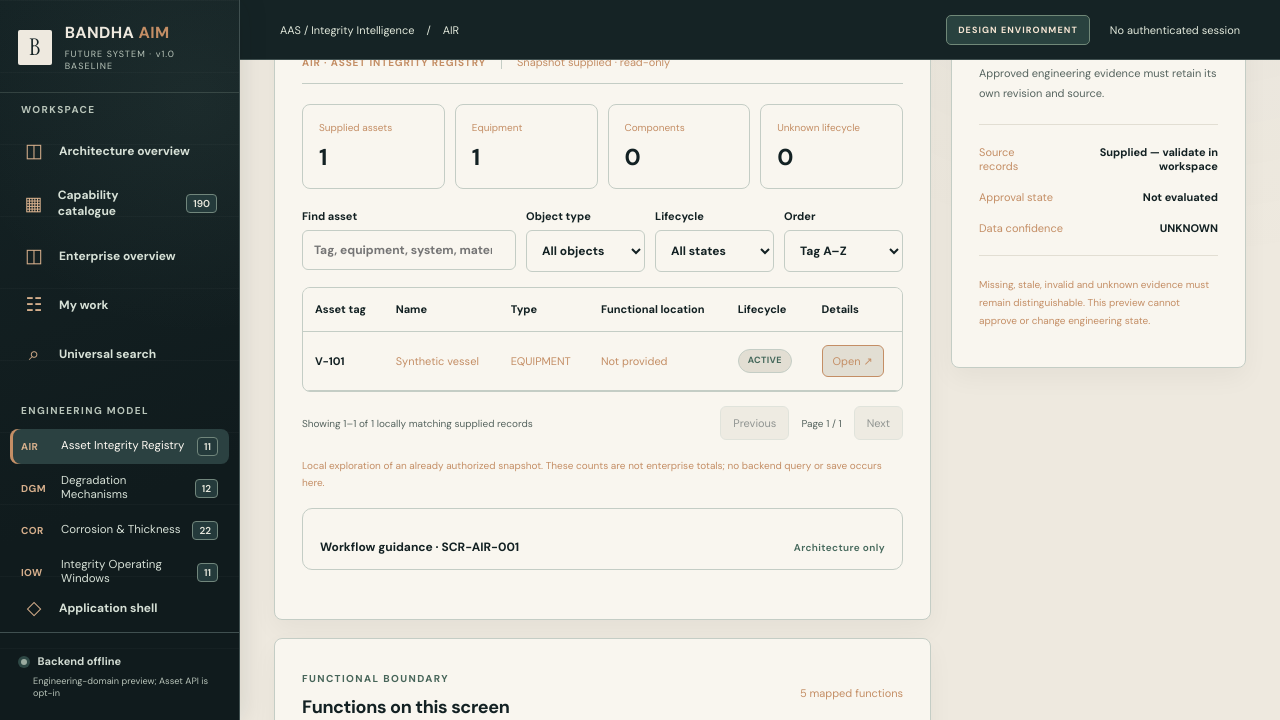
Scenario: Phase 46.5: owning-domain evidence journey › does not conflate candidate with governing INS decision
(page scrolled)
Click the button with aria-label "Open V-101 workspace" at {"x": 853, "y": 361}, box [822,345,884,377]
(page scrolled)
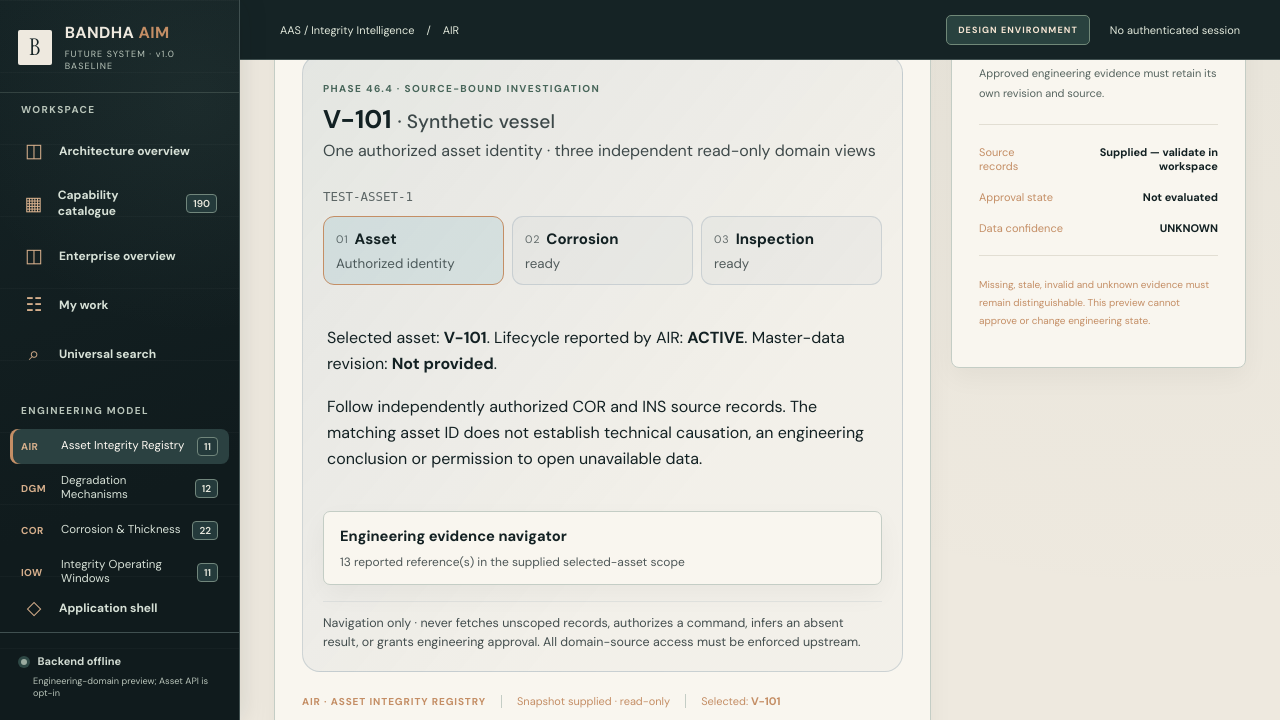
Click the text "Engineering evidence navigator" at {"x": 453, "y": 536}, box [340,526,567,546]
(page scrolled)
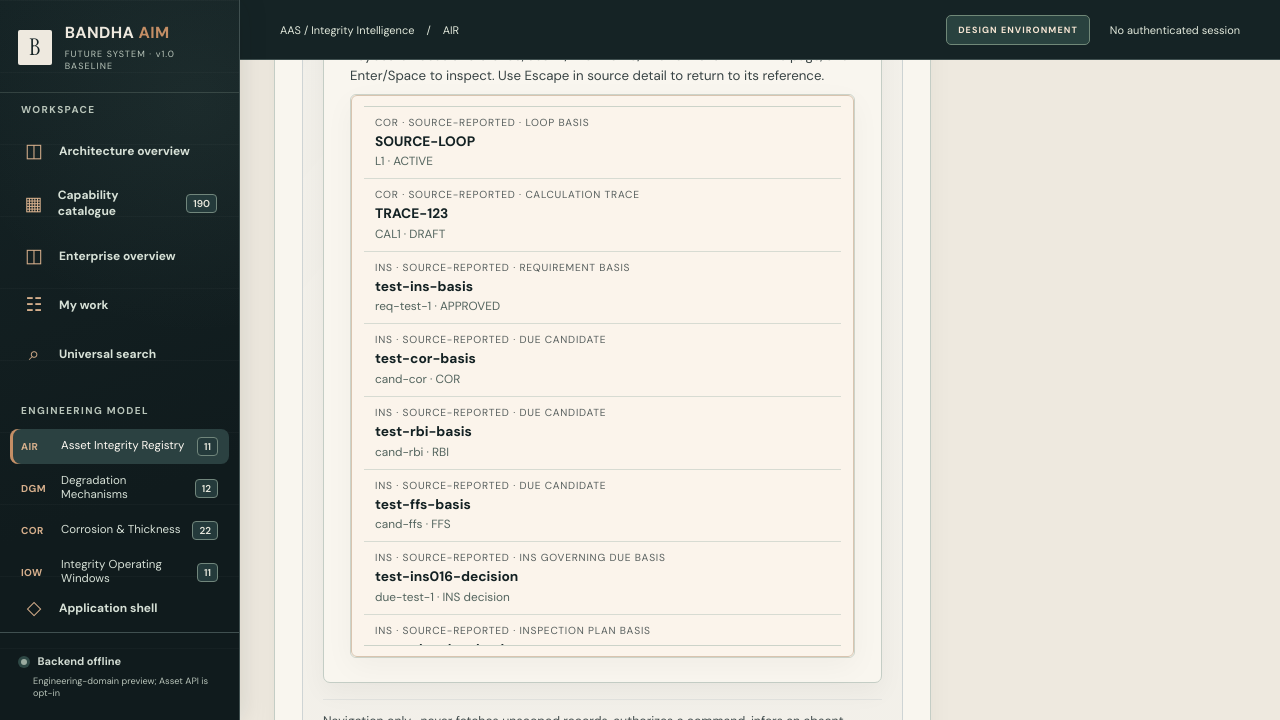
Click the button with aria-label "INS · Due candidate test-cor-basis" at {"x": 442, "y": 340}, box [364,324,841,397]
(page scrolled)
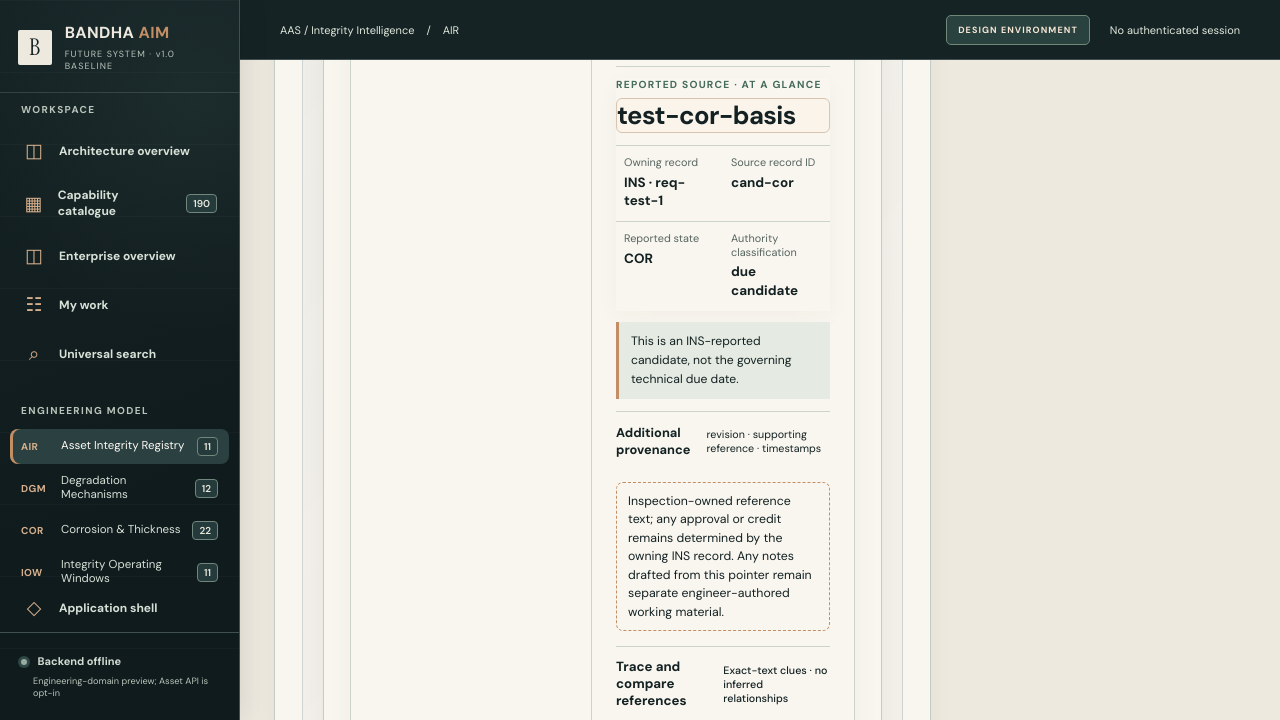
Check: the text "not the governing technical due date" is shown, box [631,333,792,387]
